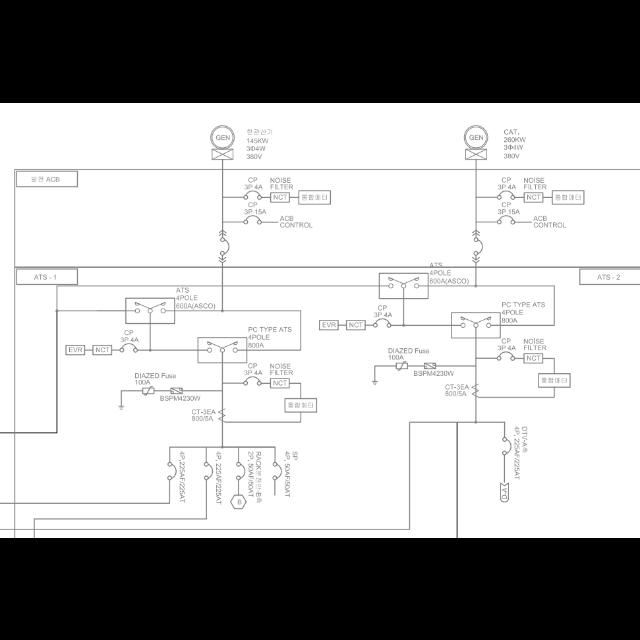CT: (218, 408, 226, 422), (471, 383, 479, 397)
GND: (118, 404, 124, 410), (372, 380, 378, 384)
MCCB: (220, 236, 230, 254), (120, 342, 138, 352), (272, 461, 282, 479), (502, 436, 512, 454), (374, 317, 391, 327), (244, 214, 262, 223), (204, 461, 213, 479), (237, 461, 246, 479), (498, 350, 514, 360), (244, 190, 262, 198), (168, 461, 176, 479), (498, 214, 514, 223), (474, 236, 482, 254), (243, 376, 260, 384), (498, 190, 514, 198)
